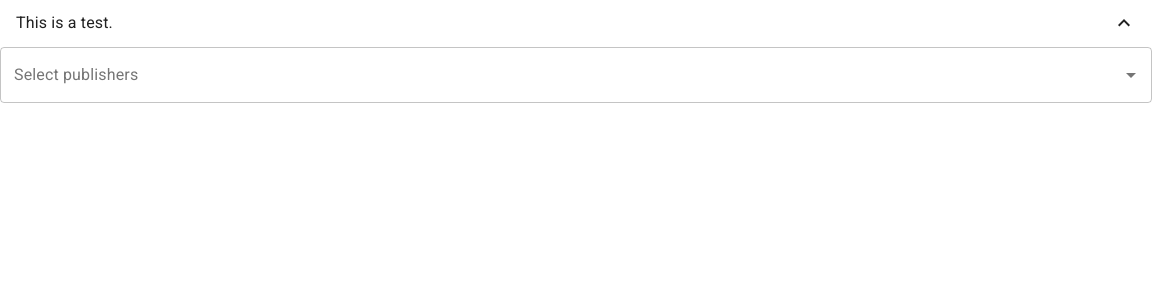
Test: <Filter /> › renders autocomplete when passed a query and query succeeds
// click the popup to show options
Click the button named "Open". click: click(1131, 75)
box: top-left (1117, 61), bottom-right (1145, 89)
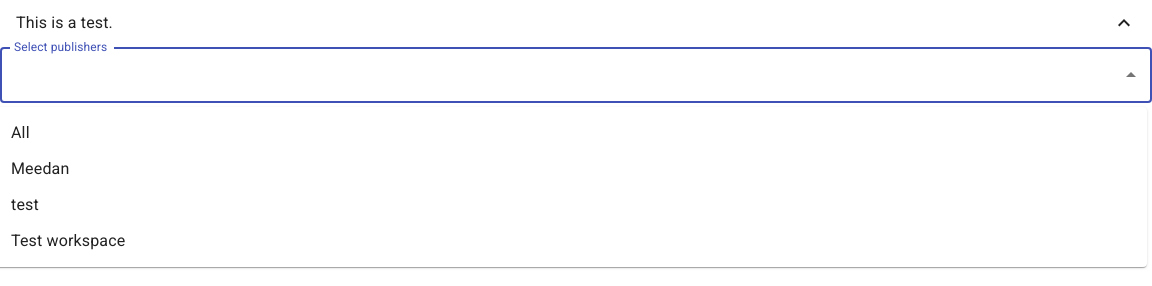
Expected: the option "All" is shown, top-left (11, 123), bottom-right (30, 142)
